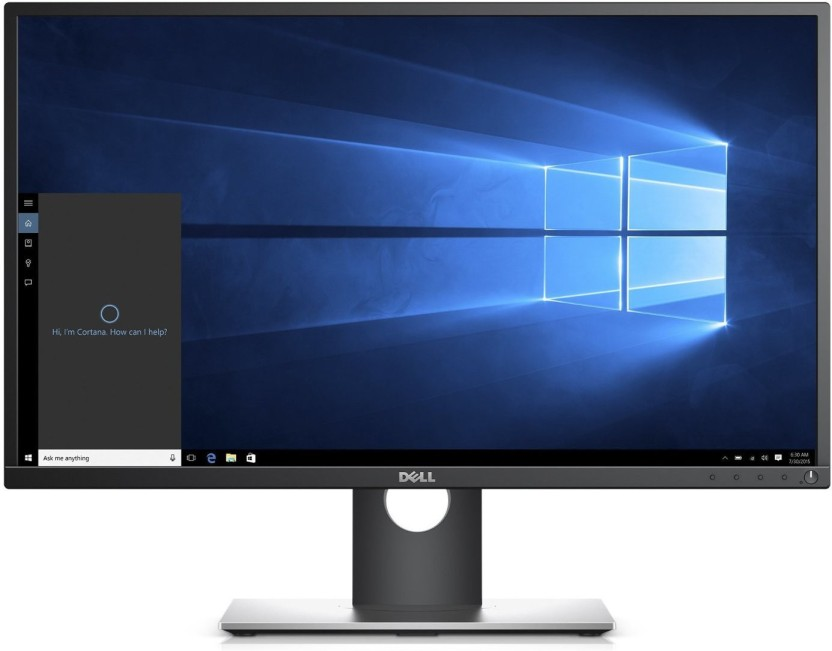dell-monitor-D1918H: (6, 1, 827, 642)
